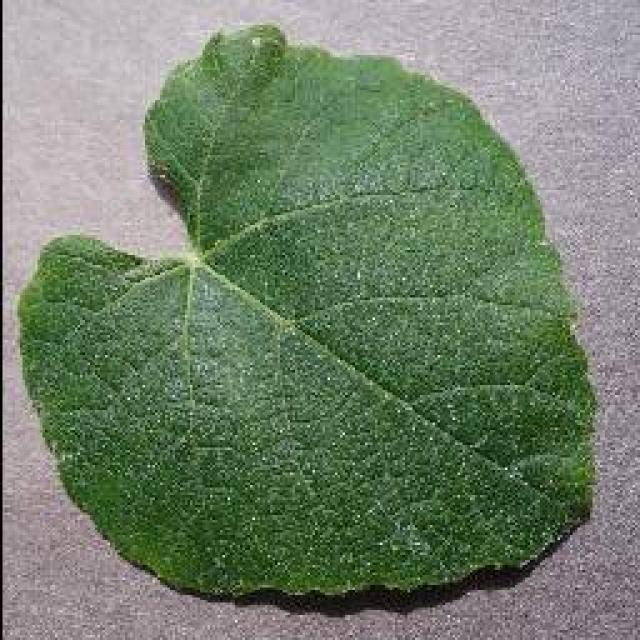Grape___healthy: (20, 25, 592, 590)
